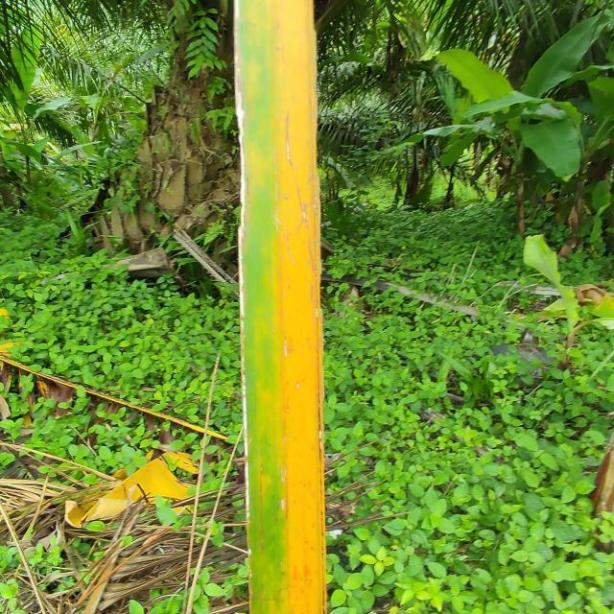Megnesium: (235, 0, 329, 614)
